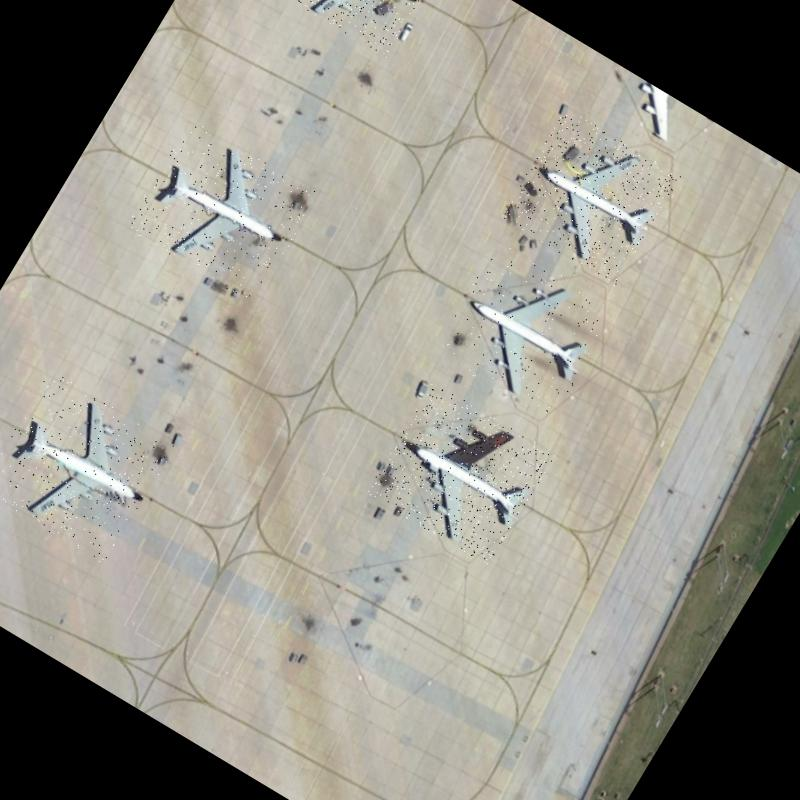A11: (124, 116, 320, 306), (365, 381, 555, 567), (430, 238, 618, 424), (0, 369, 176, 565), (500, 107, 681, 286), (264, 0, 444, 57)
